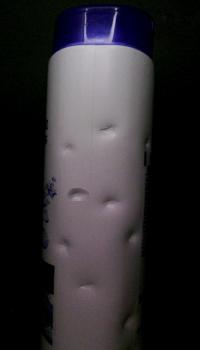dent_unacceptable: (52, 234, 83, 262), (116, 308, 145, 337), (61, 184, 93, 207), (72, 276, 104, 299), (95, 193, 130, 213), (92, 121, 127, 139), (123, 227, 145, 248), (58, 139, 82, 156), (137, 132, 153, 154)
